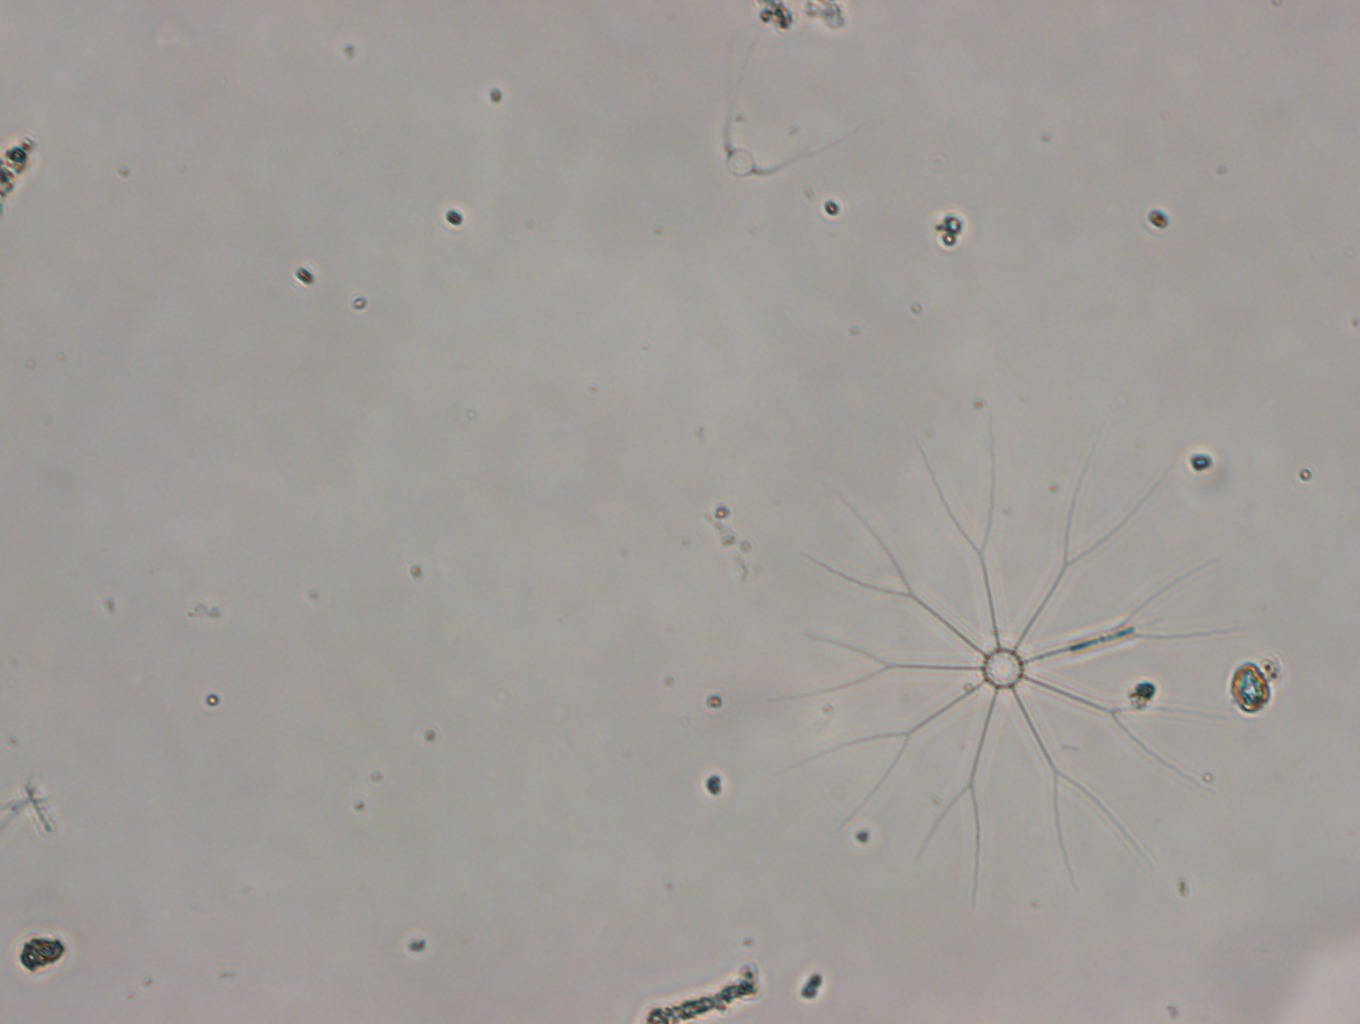bacteriastrum: (769, 417, 1252, 909)
